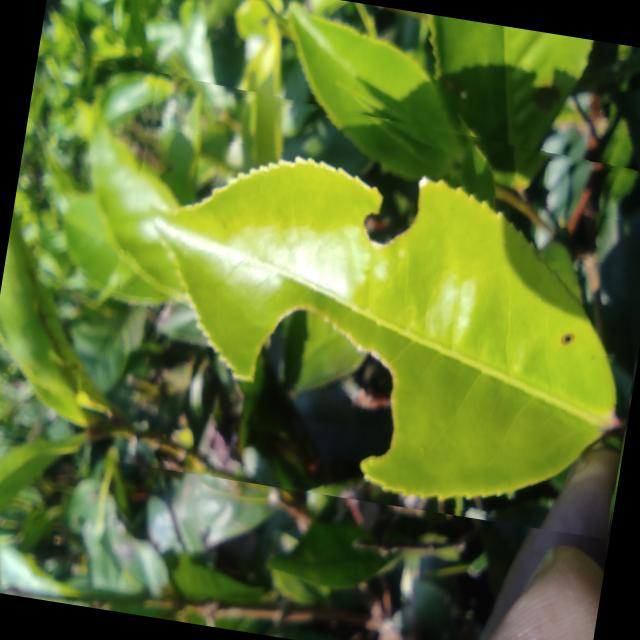Category C 4-7 days: (88, 70, 640, 538)
